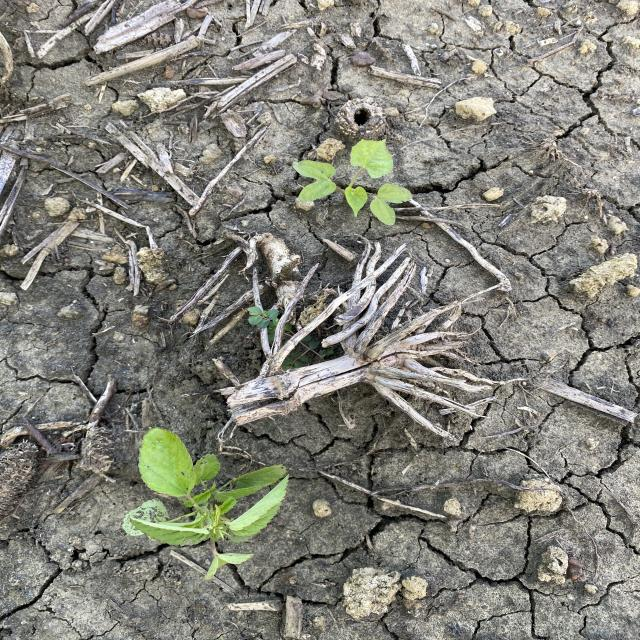MorningGlory: (290, 136, 417, 229)
PricklySida: (120, 425, 292, 581)
SpottedSpurge: (245, 306, 343, 374)
